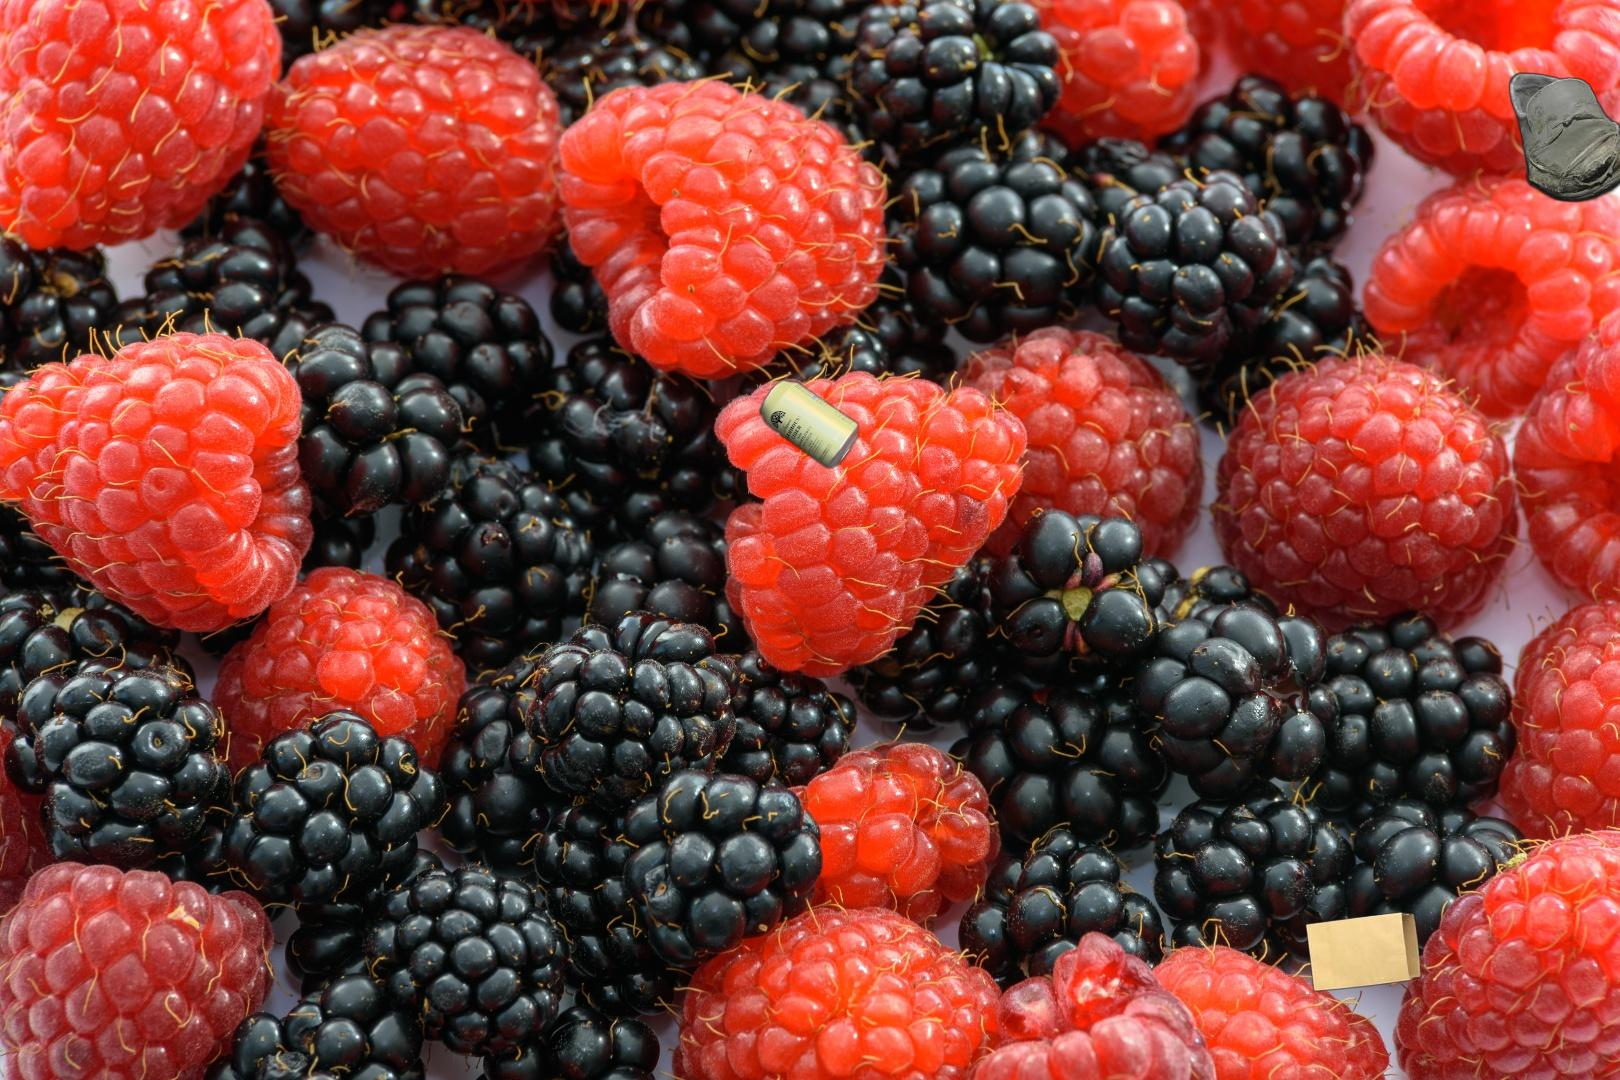metal-cans: (755, 374, 1006, 720)
paper-bag: (1303, 909, 1424, 994)
shoes: (1493, 65, 1620, 230)
